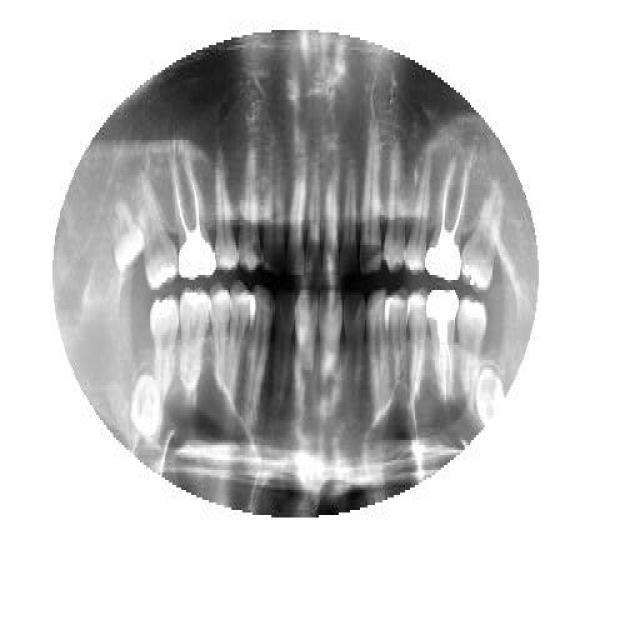Impacted Tooth: (461, 190, 501, 292), (109, 198, 146, 278)
Implant: (170, 158, 218, 282), (424, 155, 468, 283), (428, 285, 462, 405)
